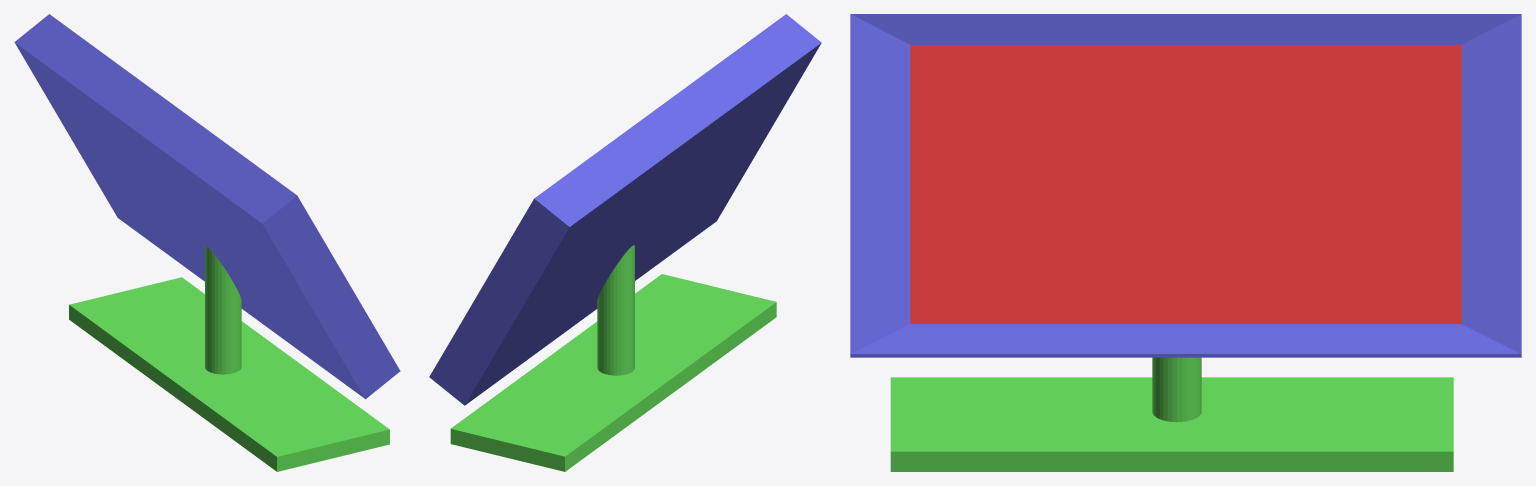
The model's file is Computer.fbx.
The picture shows the model from 3 angles, left to right: view 1: azimuth 30°, elevation 25°; view 2: azimuth 150°, elevation 25°; view 3: azimuth 270°, elevation 25°; orthographic projection. The views are drawn at different scales.
Visible parts, largest first — view 1: Computer; view 2: Computer; view 3: Computer.
Boxes of the visible parts, x1,y1,x2,y2 form: Computer: [14, 14, 400, 471]; Computer: [429, 14, 821, 471]; Computer: [850, 14, 1521, 471].
Bounding box in the file's own units: 42.63 × 81.87 × 129.
